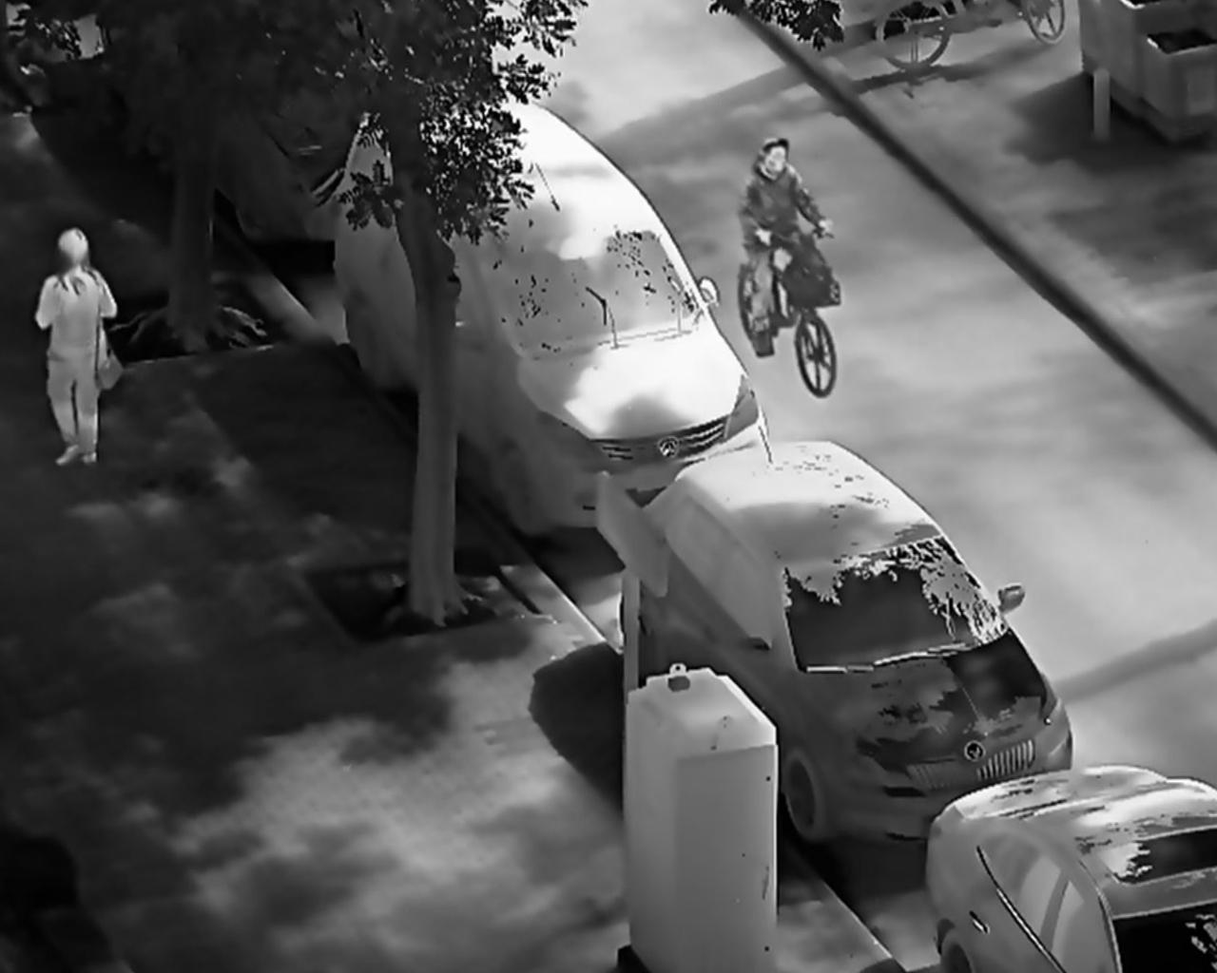person: (736, 133, 836, 363), (34, 223, 126, 467)
